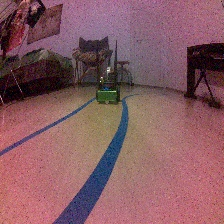rob: (95, 66, 121, 105)
